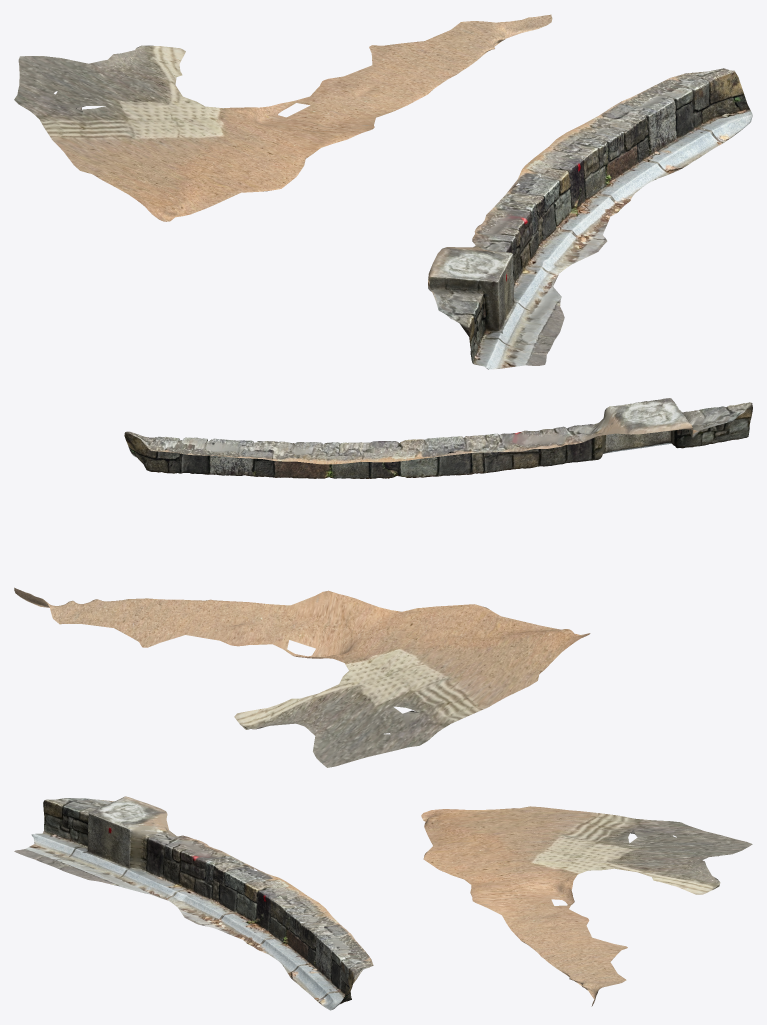
3 renders of one model, top to bottom at view 1: azimuth 30°, elevation 25°; view 2: azimuth 150°, elevation 25°; view 3: azimuth 270°, elevation 25°, orthographic. The views are drawn at different scales.
Parts seen in each view (by area): view 1: baked_mesh_cc5818ef; view 2: baked_mesh_cc5818ef; view 3: baked_mesh_cc5818ef.
Boxes of the visible parts, x1,y1,x2,y2 form: baked_mesh_cc5818ef: [14, 14, 752, 369]; baked_mesh_cc5818ef: [14, 398, 752, 767]; baked_mesh_cc5818ef: [14, 796, 752, 1010].
Bounding box in the file's own units: 0.6179 × 0.0784 × 0.9096.
Materials: 1 (1 with a texture image).
